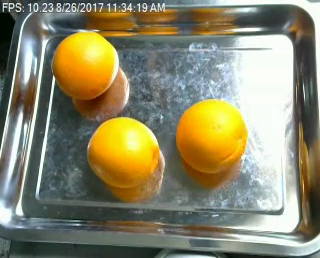Orange: (176, 99, 248, 173), (86, 116, 159, 186), (51, 30, 119, 99)
